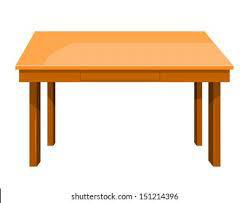desk: (14, 18, 233, 180)
